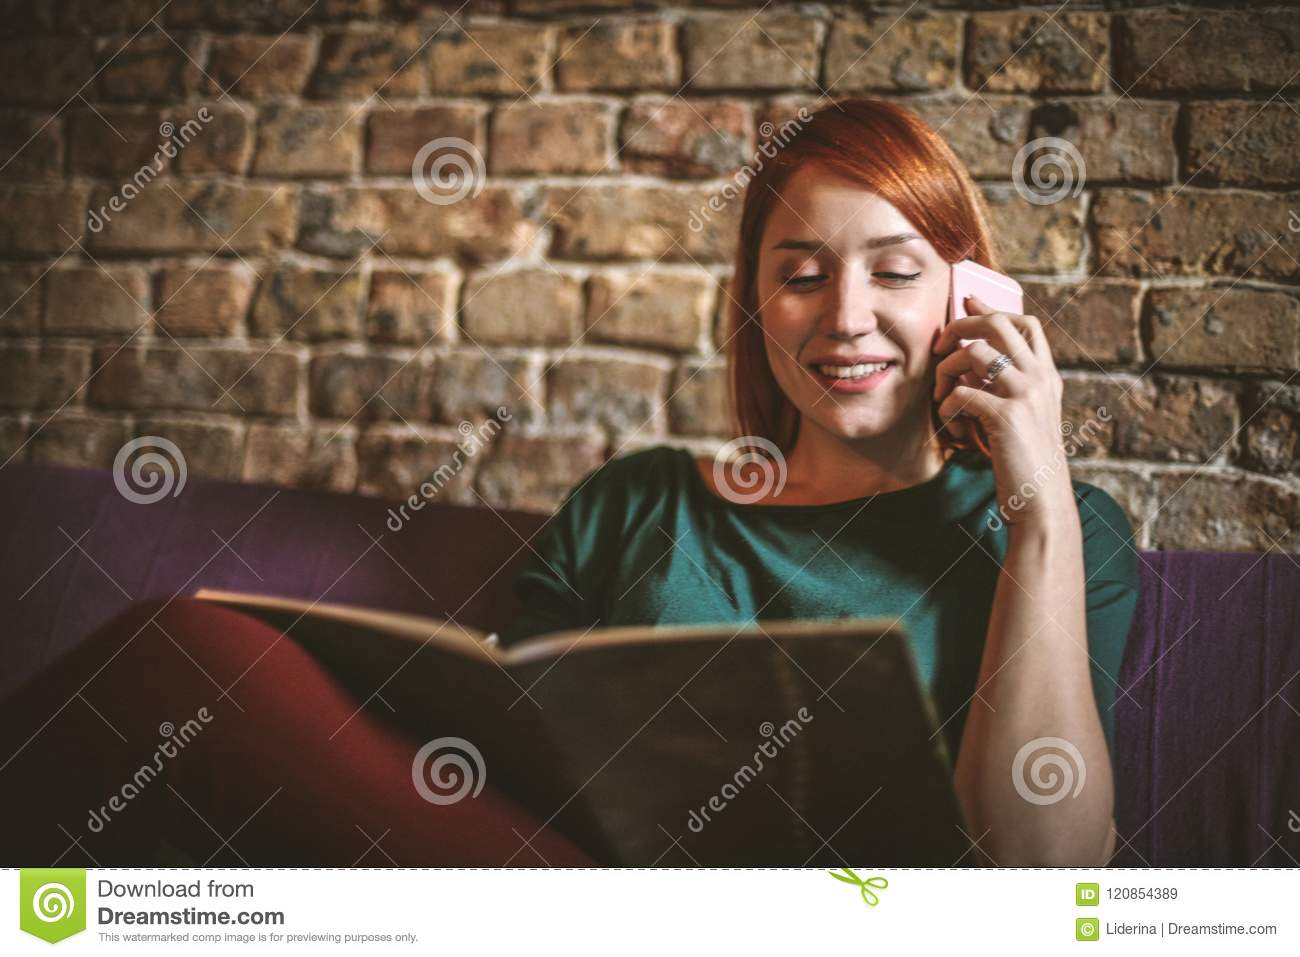phone: (938, 257, 1031, 417)
talk: (760, 222, 1077, 546)
